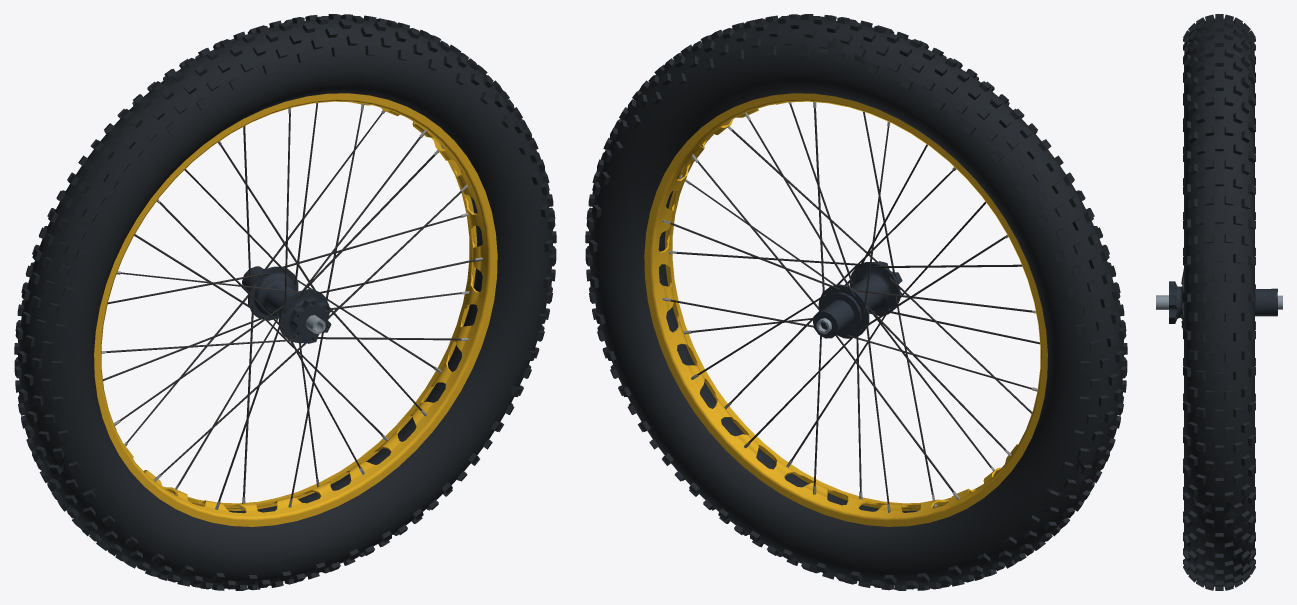
Rendered from rear_wheel_LOD0.fbx.
The picture shows the model from 3 angles, left to right: view 1: azimuth 30°, elevation 25°; view 2: azimuth 150°, elevation 25°; view 3: azimuth 270°, elevation 25°; orthographic projection. The views are drawn at different scales.
Visible parts, largest first — view 1: MM_carbon_n0188_tire, MM_carbon_n0026_rim, MM_carbon_n0031_hub; view 2: MM_carbon_n0188_tire, MM_carbon_n0026_rim, MM_carbon_n0031_hub; view 3: MM_carbon_n0188_tire, MM_carbon_n0031_hub, MM_carbon_n0029_hub.
Part boxes in pixels (bbox=[...]): MM_carbon_n0188_tire: bbox=[14, 14, 556, 590]; MM_carbon_n0026_rim: bbox=[94, 93, 497, 526]; MM_carbon_n0031_hub: bbox=[242, 266, 331, 343]; MM_carbon_n0188_tire: bbox=[585, 14, 1127, 590]; MM_carbon_n0026_rim: bbox=[644, 93, 1047, 526]; MM_carbon_n0031_hub: bbox=[813, 261, 902, 338]; MM_carbon_n0188_tire: bbox=[1183, 14, 1255, 590]; MM_carbon_n0031_hub: bbox=[1169, 277, 1277, 326]; MM_carbon_n0029_hub: bbox=[1156, 295, 1282, 309].
Bounding box in the file's own units: 0.6839 × 0.6837 × 0.1503.
